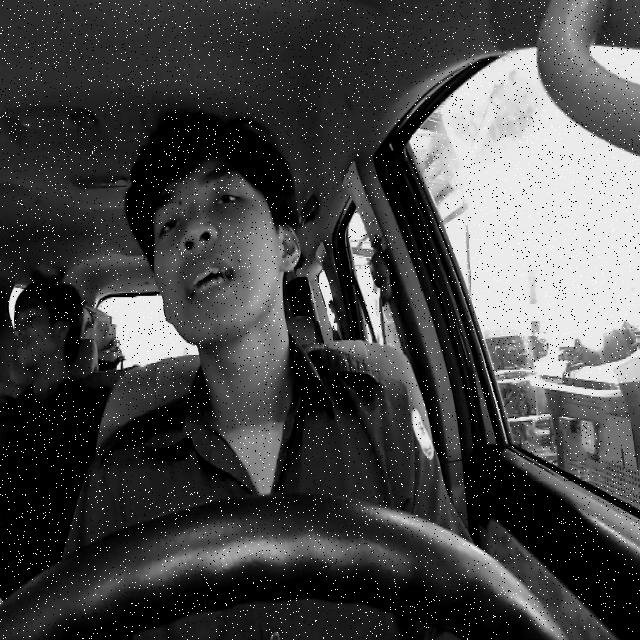yarning: (148, 156, 300, 350)
